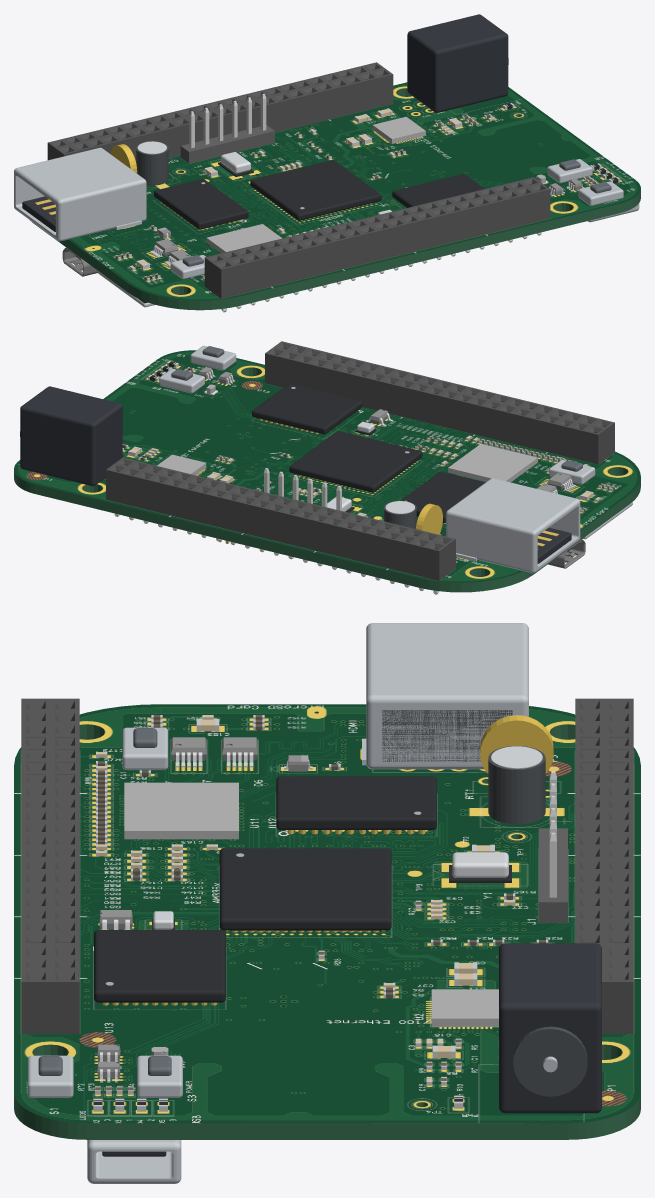
The model's file is without-ethernet.glb.
The picture shows the model from 3 angles, top to bottom: view 1: azimuth 30°, elevation 25°; view 2: azimuth 150°, elevation 25°; view 3: azimuth 270°, elevation 25°; orthographic projection. The views are drawn at different scales.
Visible parts, largest first — view 1: Box0, P8, P9, P3, P1, U5, J1, U12, U13, C34, U11, U2 (+6 smaller); view 2: Box0, P9, P8, P3, P1, U5, U13, U11, U12, J1, S1, S3 (+5 smaller); view 3: Box0, P3, P8, P1, P9, U5, U13, U12, U11, C34, P4, J1 (+8 smaller).
Boxes of the visible parts, x1,y1,x2,y2 form: Box0: (30,82,640,310); P8: (204,177,550,312); P9: (47,62,393,161); P3: (14,147,146,241); P1: (407,14,508,112); U5: (250,160,381,220); J1: (180,94,274,163); U12: (154,179,248,230); U13: (392,174,484,207); C34: (136,141,168,185); U11: (206,224,282,253); U2: (372,116,425,143); Box0: (14,350,640,592); P9: (106,457,455,594); P8: (265,341,614,464); P3: (446,478,580,573); P1: (20,386,122,486); U5: (289,431,422,492); U13: (252,384,362,434); U11: (448,444,537,482); U12: (400,471,485,523); J1: (264,468,341,510); S1: (190,345,236,370); S3: (159,368,204,393); Box0: (14,704,640,1139); P3: (362,623,528,769); P8: (21,698,79,1033); P1: (499,943,601,1113); P9: (575,698,633,1033); U5: (219,848,391,932); U13: (94,930,225,1005); U12: (276,776,436,834); U11: (124,782,238,839); C34: (488,746,545,824); P4: (87,1140,181,1183); J1: (538,771,567,922).
Size of the model in its own units: 89.27 by 16.6 by 54.64.
Materials: 31 (2 with a texture image).
